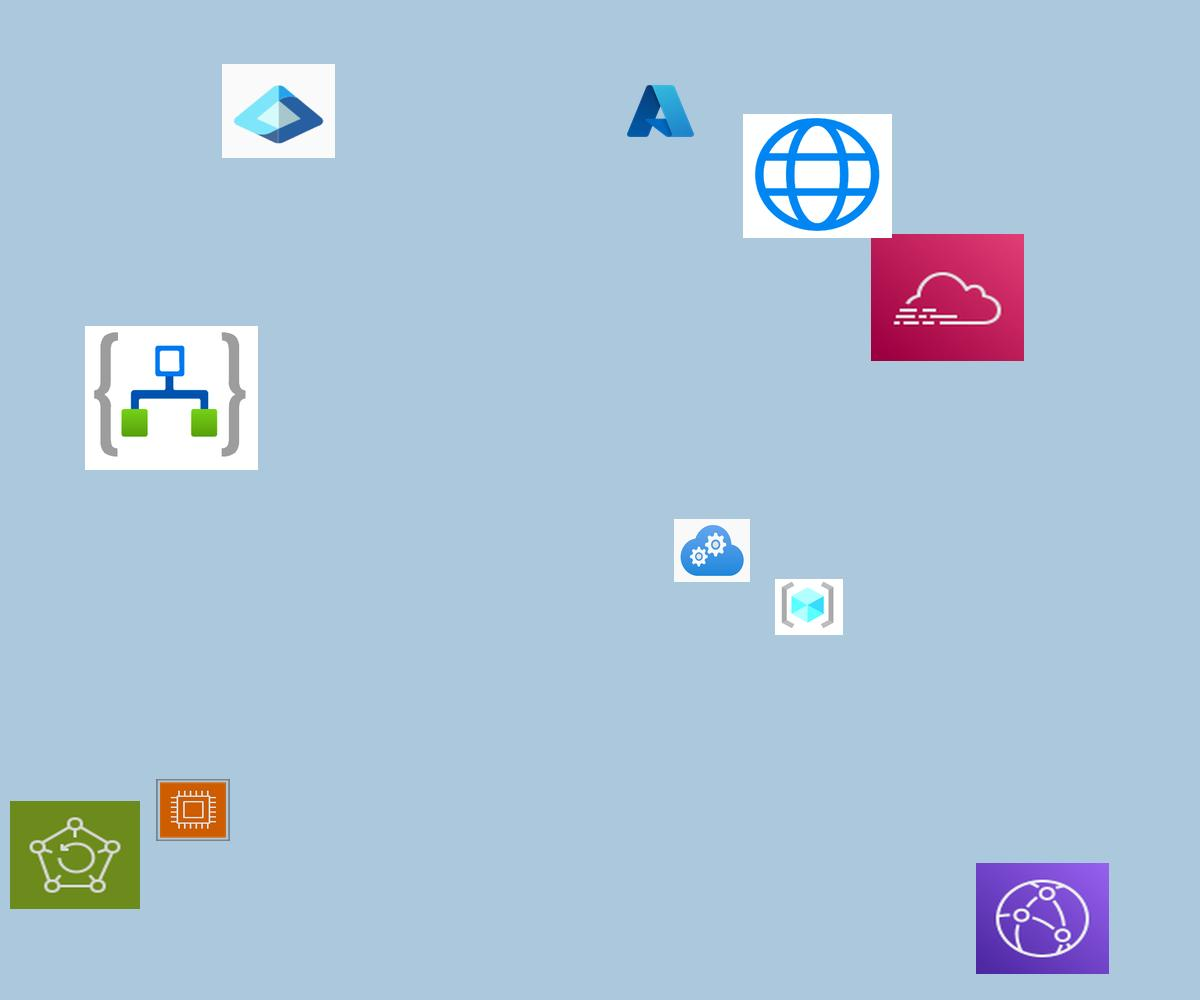AWS-Backup: (10, 801, 140, 909)
AWS-Category_Compute: (156, 779, 230, 841)
AWS-CloudFront: (976, 863, 1109, 974)
AWS-CloudTrail: (871, 234, 1024, 361)
Azure_cloud_services: (674, 519, 750, 582)
Azure_http: (743, 114, 892, 238)
Azure_integration-204-Logic-Apps: (85, 326, 258, 470)
Azure_microsoft_entra: (222, 64, 335, 158)
Azure_resource_group: (775, 579, 843, 635)
Azure_services: (624, 81, 697, 141)
